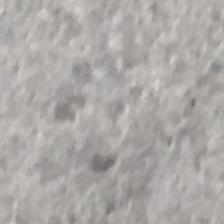Non_Crack: (32, 21, 205, 142)
